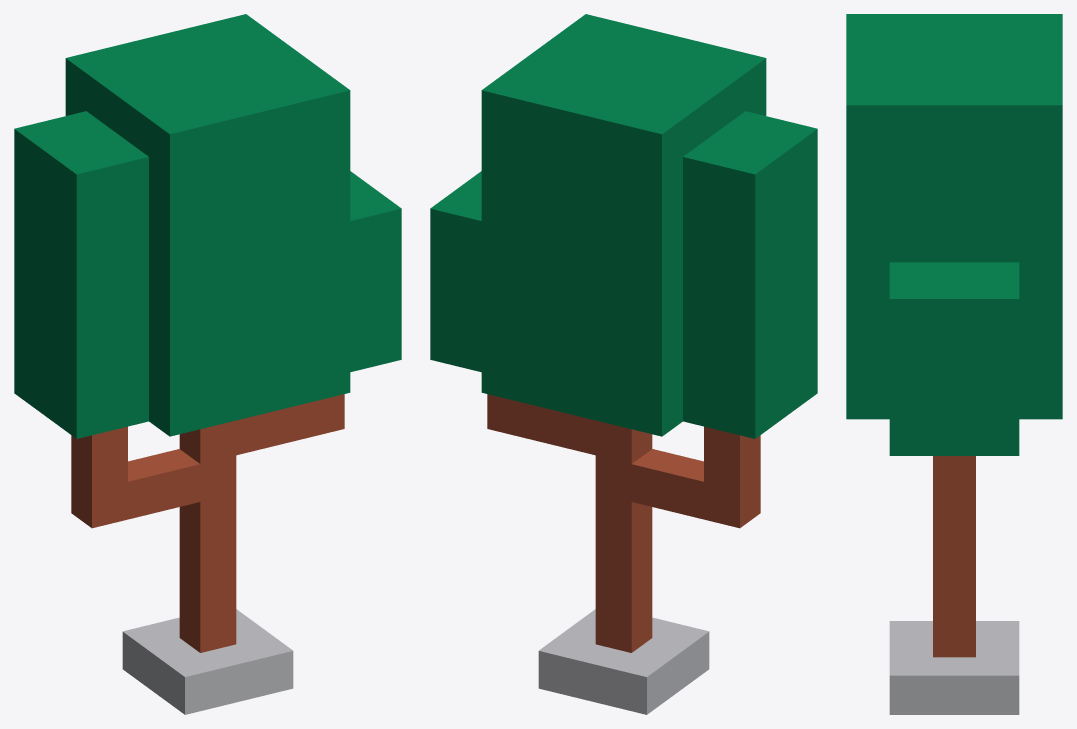
Rendered from sidewalk_tree_a.obj.
3 renders of one model, left to right at view 1: azimuth 30°, elevation 25°; view 2: azimuth 150°, elevation 25°; view 3: azimuth 270°, elevation 25°, orthographic. The views are drawn at different scales.
Bounding box in the file's own units: 0.9 × 1.6 × 0.5.
Materials: 1 (1 with a texture image).
